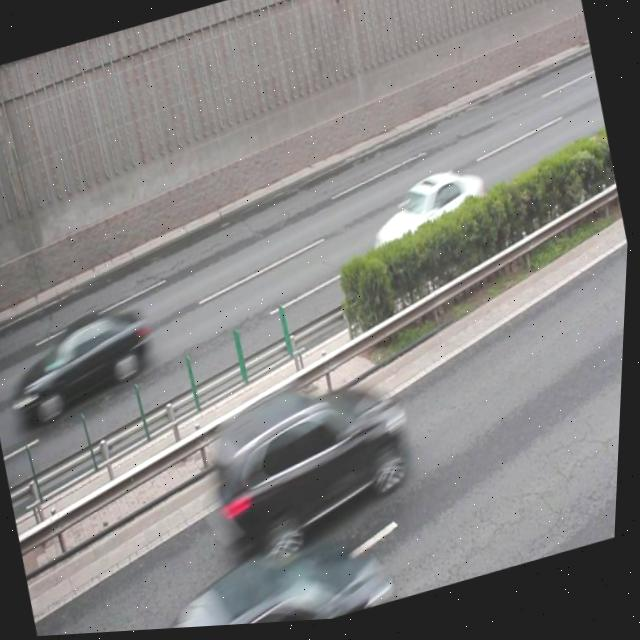car: (201, 359, 425, 560), (129, 528, 395, 633), (14, 300, 167, 424), (362, 164, 499, 282)
